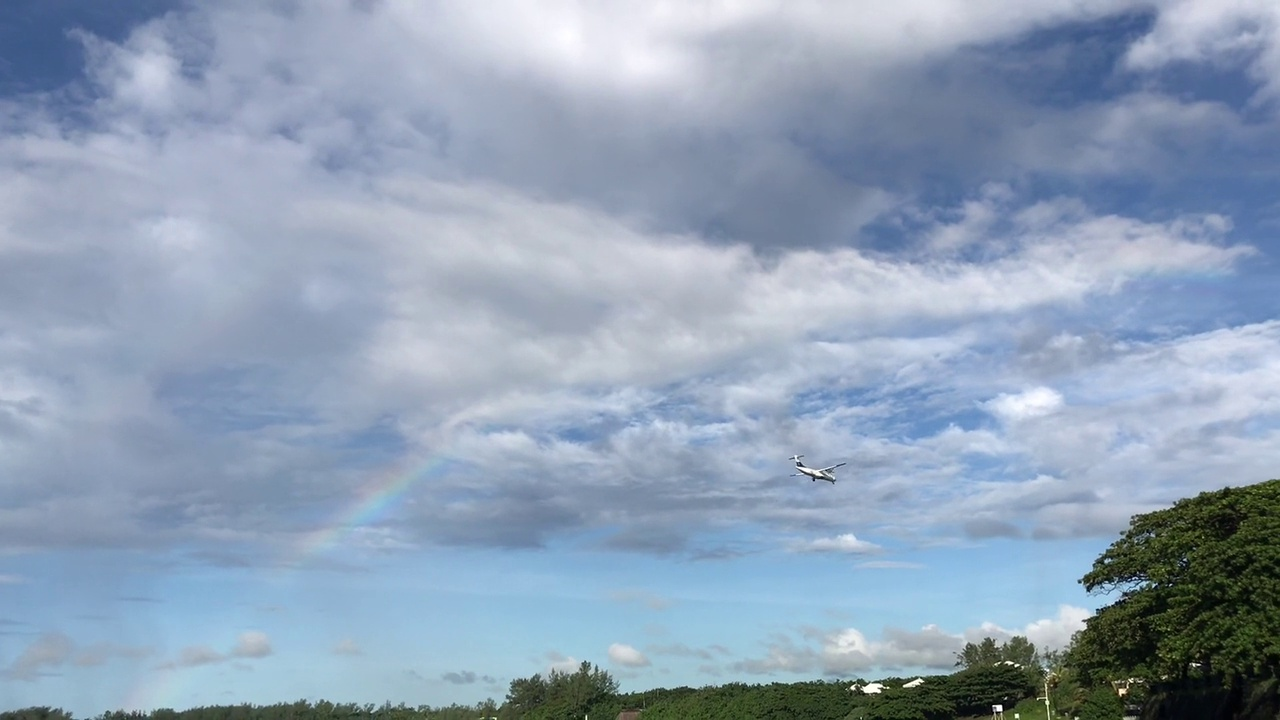plane: (787, 452, 846, 483)
